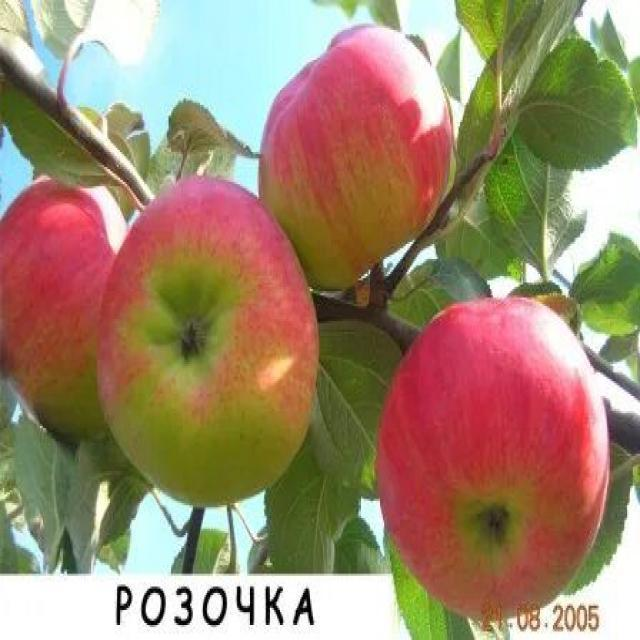Fresh Apple: (91, 180, 316, 495), (407, 307, 600, 610), (253, 37, 445, 275)
